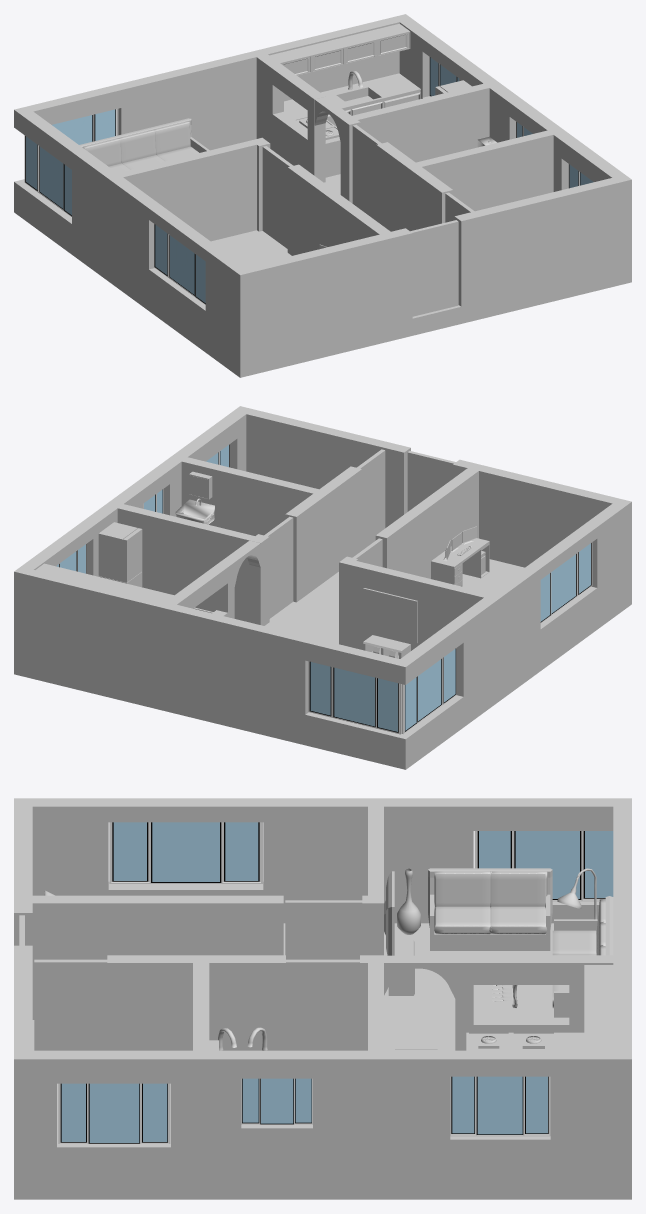
File: apartment.dae
The picture shows the model from 3 angles, top to bottom: view 1: azimuth 30°, elevation 25°; view 2: azimuth 150°, elevation 25°; view 3: azimuth 270°, elevation 25°; orthographic projection. The views are drawn at different scales.
Parts seen in each view (by area): view 1: Plane, Plane_001, Cube, Cube_002, Plane_004, Window_001, Window_002, Plane_003, Window, Cube_011, Cube_012, Plane_005 (+3 smaller); view 2: Plane, Window, Window_001, Cube_001, Cube_020, Window_002, Plane_003, Plane_002, Plane_001, Cube_029, Cube_002, Cube_004 (+4 smaller); view 3: Plane, Window_002, Window_001, Window_003, Plane_003, Plane_002, Window_004, Plane_004, Window_005, Cube_018, Cube_002, Cube (+10 smaller).
Boxes of the visible parts, x1=… form: Plane: x1=14, y1=14, x2=631, y2=377; Plane_001: x1=410, y1=220, x2=458, y2=316; Cube: x1=284, y1=73, x2=420, y2=177; Cube_002: x1=269, y1=23, x2=410, y2=75; Plane_004: x1=262, y1=146, x2=293, y2=248; Window_001: x1=24, y1=135, x2=71, y2=216; Window_002: x1=154, y1=224, x2=205, y2=304; Plane_003: x1=352, y1=124, x2=381, y2=220; Window: x1=52, y1=109, x2=118, y2=144; Cube_011: x1=153, y1=121, x2=190, y2=154; Cube_012: x1=118, y1=129, x2=155, y2=163; Plane_005: x1=314, y1=97, x2=351, y2=141; Plane: x1=14, y1=406, x2=631, y2=769; Window: x1=308, y1=661, x2=401, y2=734; Window_001: x1=401, y1=648, x2=456, y2=733; Cube_001: x1=98, y1=522, x2=142, y2=587; Cube_020: x1=363, y1=588, x2=417, y2=643; Window_002: x1=540, y1=542, x2=592, y2=622; Plane_003: x1=264, y1=516, x2=293, y2=618; Plane_002: x1=357, y1=449, x2=385, y2=550; Plane_001: x1=407, y1=451, x2=455, y2=511; Cube_029: x1=431, y1=538, x2=489, y2=586; Cube_002: x1=35, y1=563, x2=173, y2=601; Cube_004: x1=175, y1=499, x2=214, y2=524; Plane: x1=14, y1=798, x2=631, y2=1199; Window_002: x1=109, y1=822, x2=262, y2=883; Window_001: x1=474, y1=831, x2=613, y2=901; Window_003: x1=58, y1=1083, x2=170, y2=1143; Plane_003: x1=286, y1=959, x2=359, y2=1050; Plane_002: x1=34, y1=959, x2=107, y2=1050; Window_004: x1=450, y1=1076, x2=550, y2=1136; Plane_004: x1=285, y1=900, x2=362, y2=959; Window_005: x1=241, y1=1078, x2=312, y2=1124; Cube_018: x1=428, y1=868, x2=552, y2=950; Cube_002: x1=584, y1=965, x2=613, y2=1050; Cube: x1=466, y1=1032, x2=584, y2=1050.
Size of the model in its own units: 7.94 by 7.94 by 1.99.
